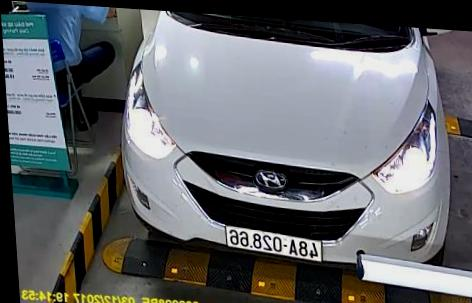License_Plate: (223, 225, 325, 260)
